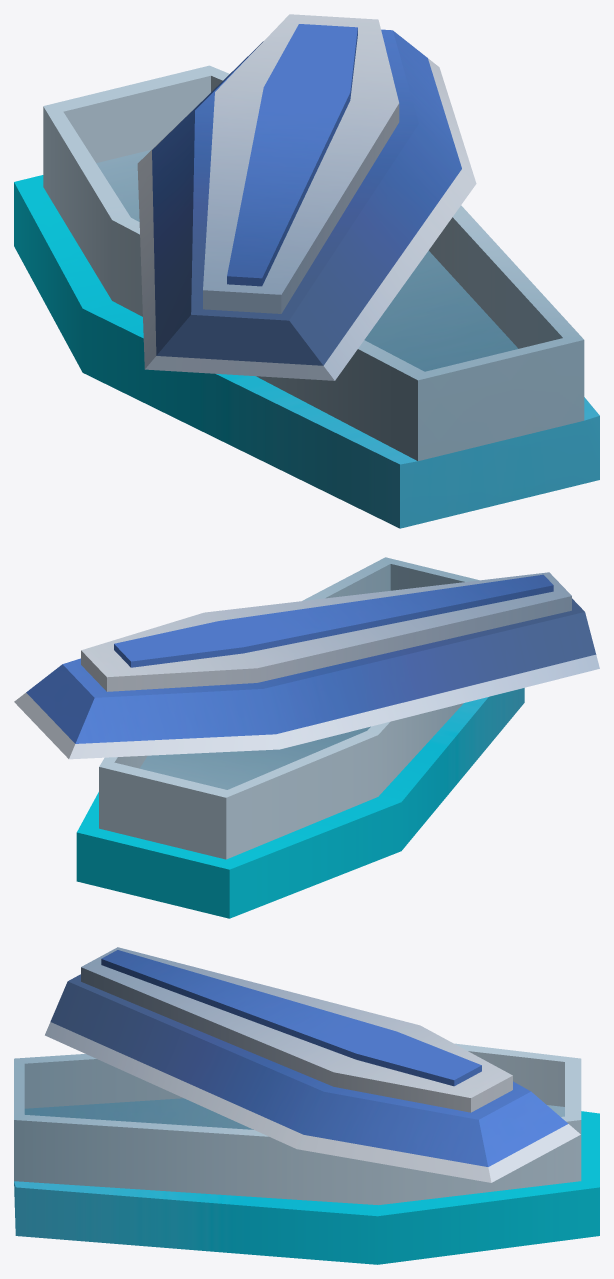
File: Сoffin_02.fbx
3 renders of one model, top to bottom at view 1: azimuth 30°, elevation 25°; view 2: azimuth 150°, elevation 25°; view 3: azimuth 270°, elevation 25°, orthographic. The views are drawn at different scales.
Parts seen in each view (by area): view 1: Tomb 02.001, Tomb 02 Cover.001; view 2: Tomb 02 Cover.001, Tomb 02.001; view 3: Tomb 02.001, Tomb 02 Cover.001.
Part boxes in pixels (x1,y1,x2,y2): Tomb 02.001: (14,65,599,528); Tomb 02 Cover.001: (137,14,476,380); Tomb 02 Cover.001: (14,572,599,759); Tomb 02.001: (76,557,524,918); Tomb 02.001: (14,1043,599,1264); Tomb 02 Cover.001: (45,947,580,1182).
Bounding box in the file's own units: 205 × 84.65 × 259.
